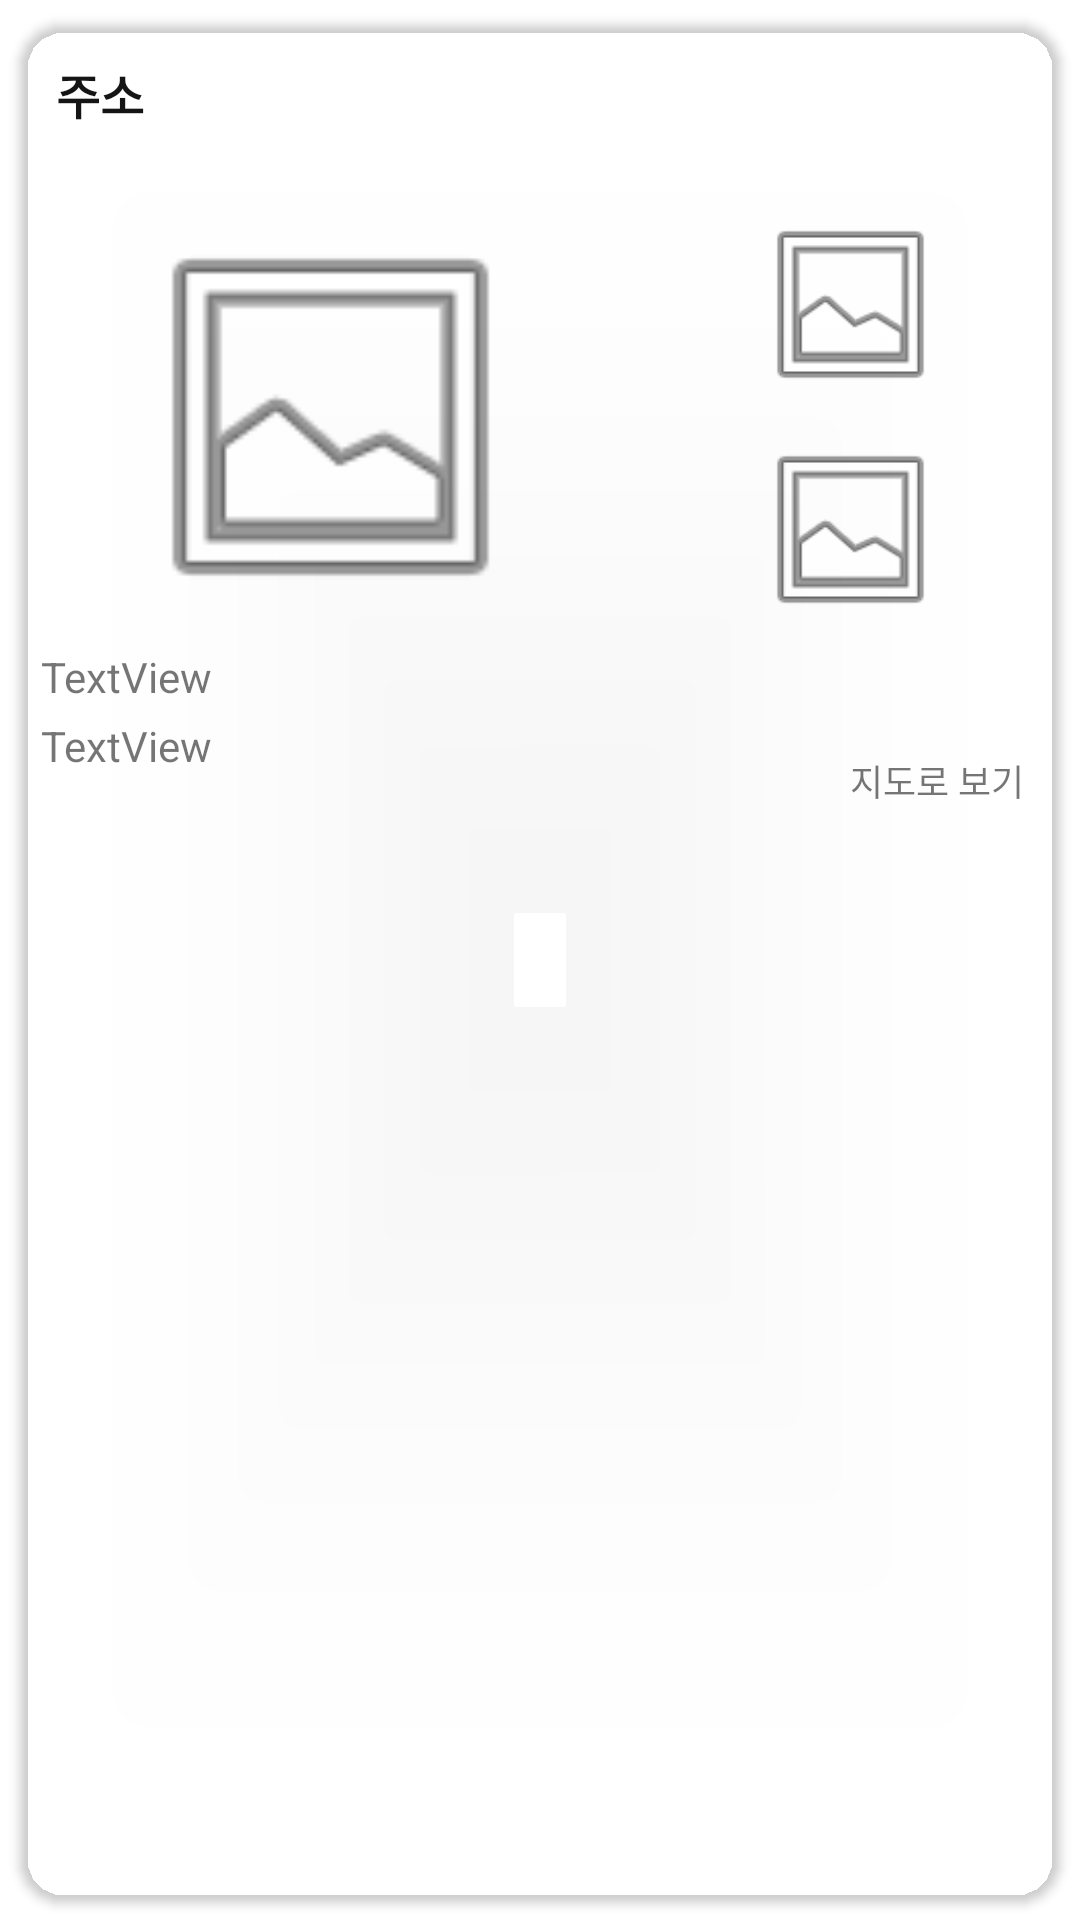

Icons on this 1080 x 1920 Android screen, each with its box as detection(x1, y1, x2, y2):
gallery: detection(777, 231, 924, 378), detection(172, 258, 489, 576), detection(777, 456, 924, 603)
